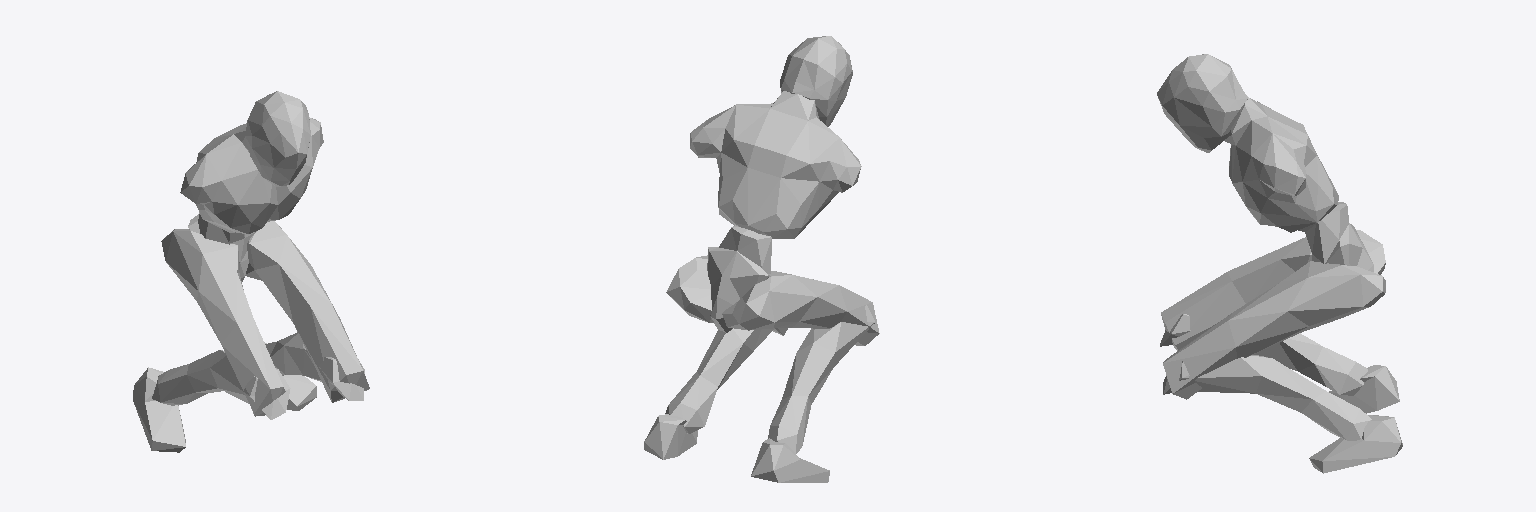
File: filth57.obj
3 views of the same model, side by side, from view 1: azimuth 30°, elevation 25°; view 2: azimuth 150°, elevation 25°; view 3: azimuth 270°, elevation 25° (orthographic).
Visible parts, largest first — view 1: Melee_Husk; view 2: Melee_Husk; view 3: Melee_Husk.
Part boxes in pixels (left/top/right/bottom): Melee_Husk: left=133, top=91, right=369, bottom=452; Melee_Husk: left=644, top=36, right=879, bottom=482; Melee_Husk: left=1157, top=54, right=1402, bottom=473.
Size of the model in its own units: 22.17 by 49.85 by 28.61.